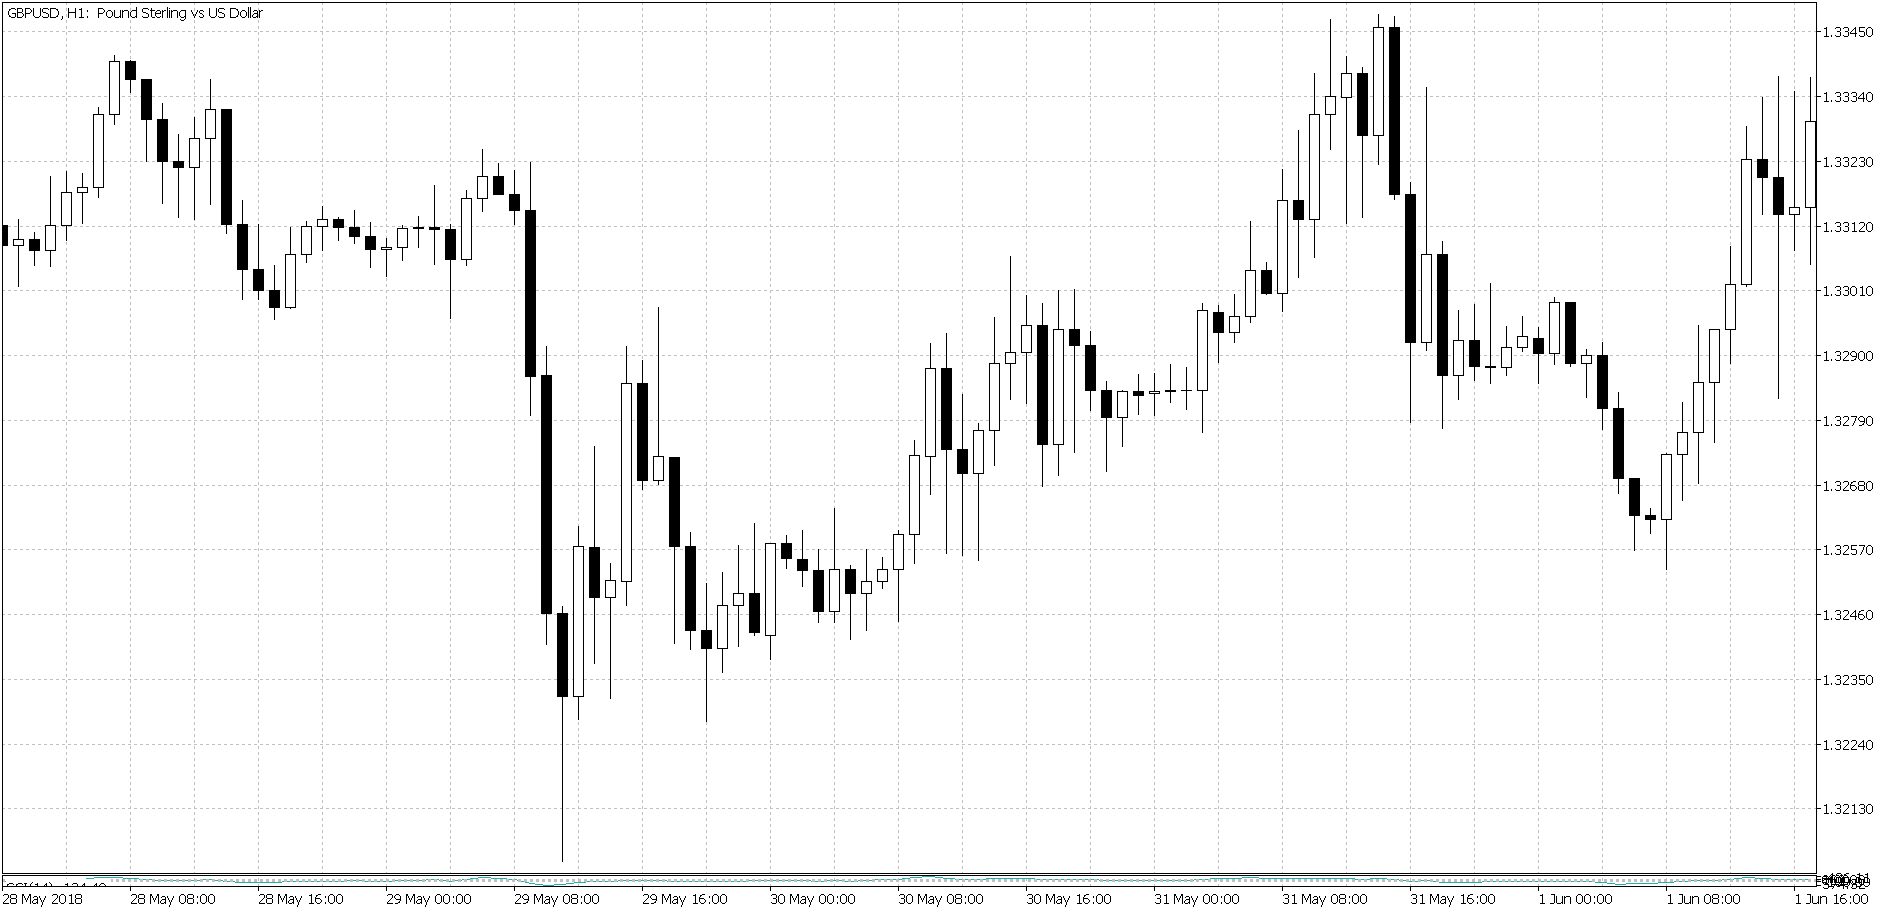3blackcrows: (492, 153, 539, 409), (123, 57, 172, 208)
3whitesoldiers: (861, 529, 905, 640)
bullishEngulfing: (554, 537, 585, 787)
morningDojiStar: (1466, 281, 1514, 403), (1628, 444, 1673, 556)
